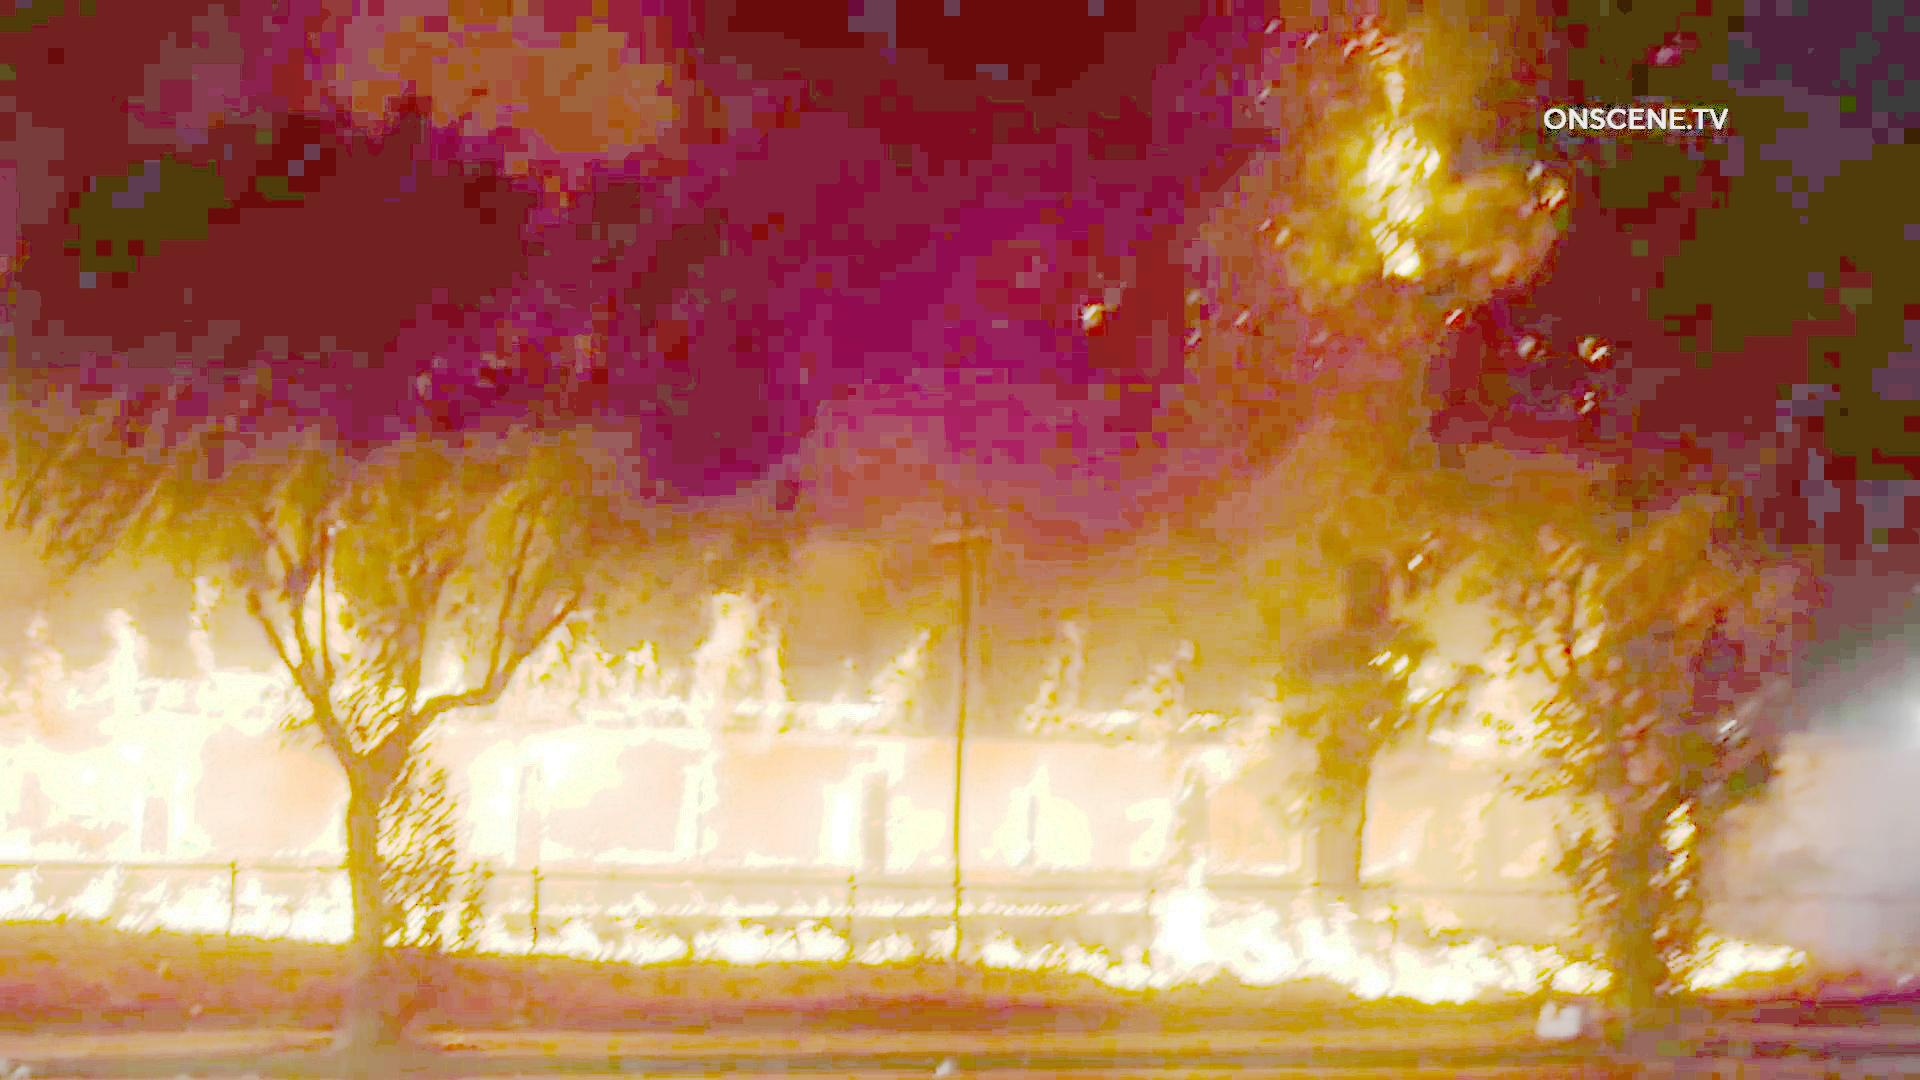fire: (505, 628, 1212, 870), (1155, 856, 1581, 996), (13, 621, 211, 856)
